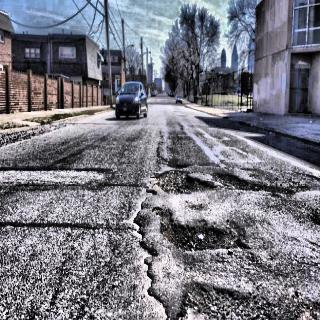pothole: (152, 147, 270, 203), (151, 197, 251, 263), (178, 274, 297, 320), (293, 166, 320, 194)
